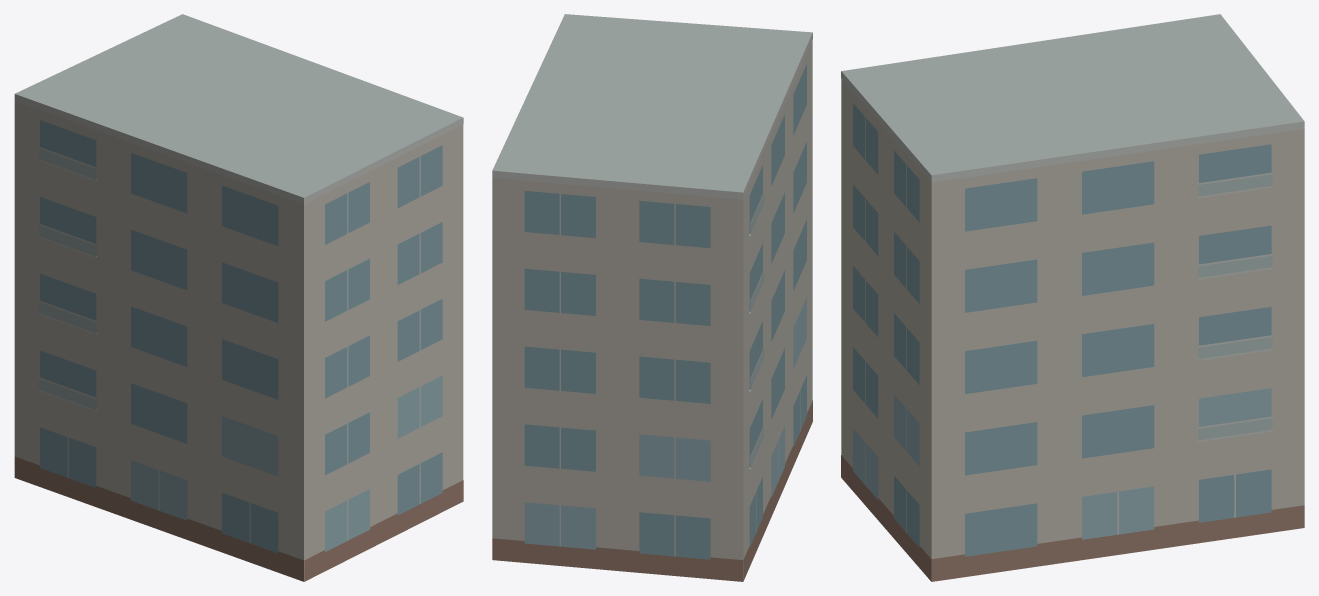
The model's file is survey-upis-32742389.glb.
The picture shows the model from 3 angles, left to right: view 1: azimuth 30°, elevation 25°; view 2: azimuth 150°, elevation 25°; view 3: azimuth 270°, elevation 25°; orthographic projection. The views are drawn at different scales.
Parts seen in each view (by area): view 1: survey-upis-32742389.tmp; view 2: survey-upis-32742389.tmp; view 3: survey-upis-32742389.tmp.
Boxes of the visible parts, x1=… form: survey-upis-32742389.tmp: x1=14, y1=14, x2=463, y2=581; survey-upis-32742389.tmp: x1=492, y1=14, x2=812, y2=581; survey-upis-32742389.tmp: x1=841, y1=14, x2=1304, y2=581.
Size of the model in its own units: 11.55 by 13.55 by 14.01.
